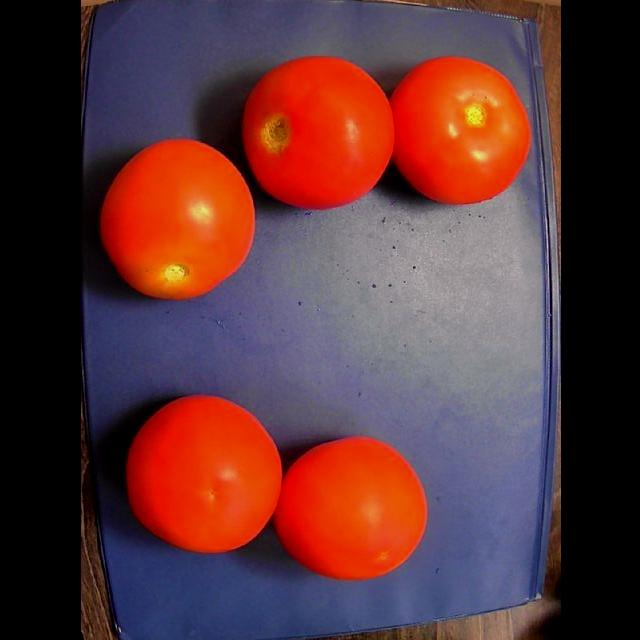tomate: (100, 139, 254, 299), (126, 396, 281, 553), (242, 57, 393, 209), (273, 437, 427, 580), (390, 57, 530, 204)
